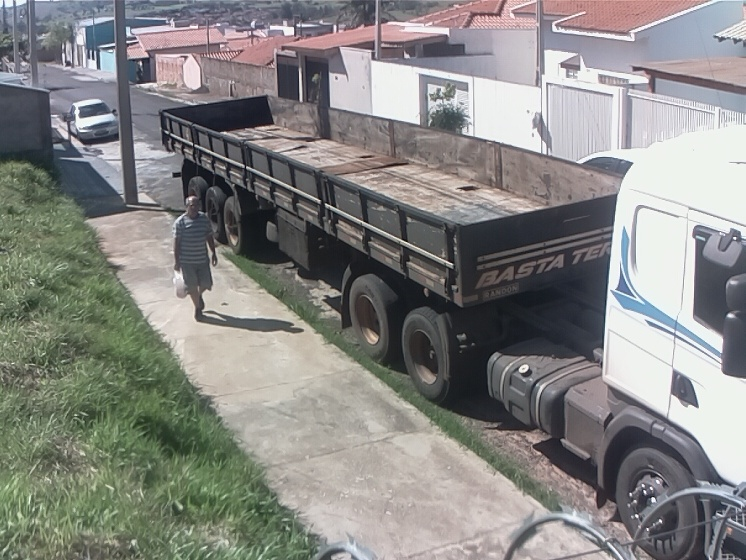person: (171, 193, 220, 324)
